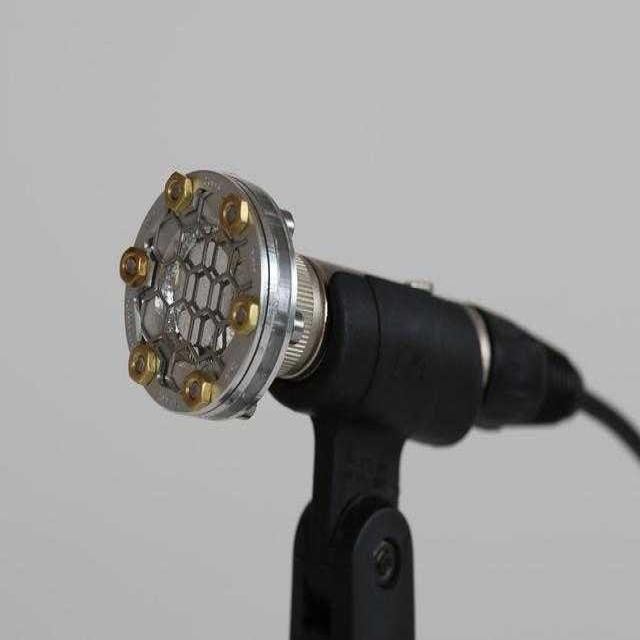microphone: (100, 170, 618, 428)
